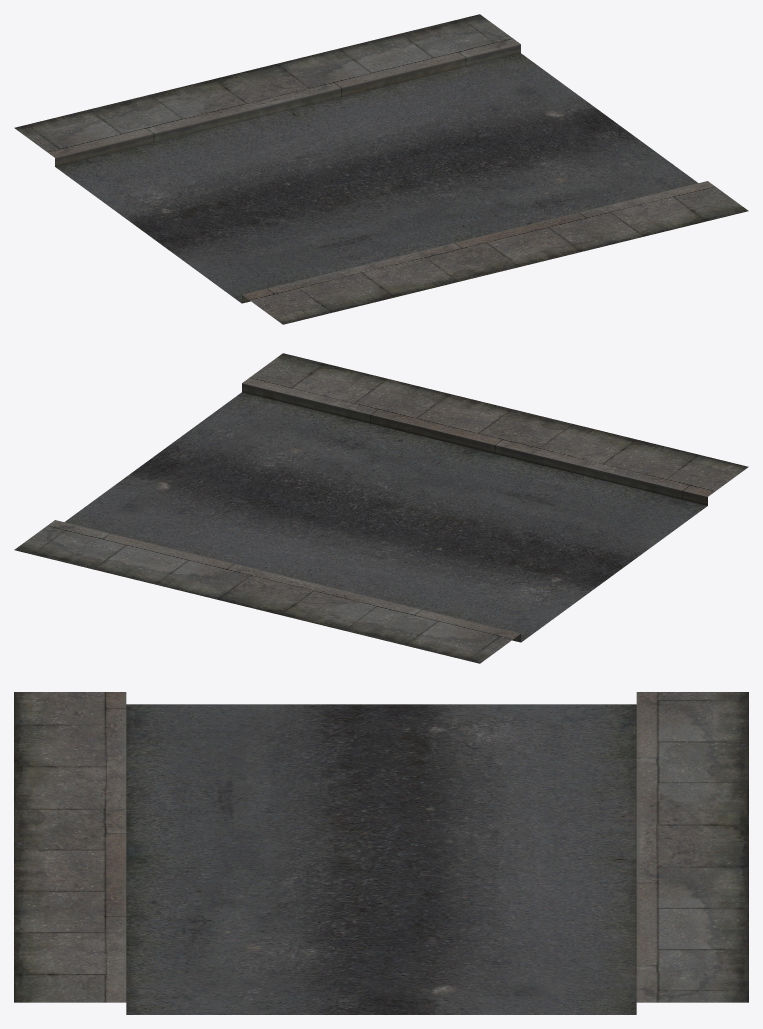
Rendered from Road_set_v1_s_tile_1.001.glb.
3 views of the same model, one above another, from view 1: azimuth 30°, elevation 25°; view 2: azimuth 150°, elevation 25°; view 3: azimuth 270°, elevation 25° (orthographic). The views are drawn at different scales.
Parts seen in each view (by area): view 1: Road_set_v1_s_tile_1.001; view 2: Road_set_v1_s_tile_1.001; view 3: Road_set_v1_s_tile_1.001.
Part boxes in pixels (<box>): Road_set_v1_s_tile_1.001: <box>14,14,748,324</box>; Road_set_v1_s_tile_1.001: <box>14,353,748,663</box>; Road_set_v1_s_tile_1.001: <box>14,692,748,1014</box>.
Bounding box in the file's own units: 10 × 0.1836 × 10.
Materials: 1 (1 with a texture image).
